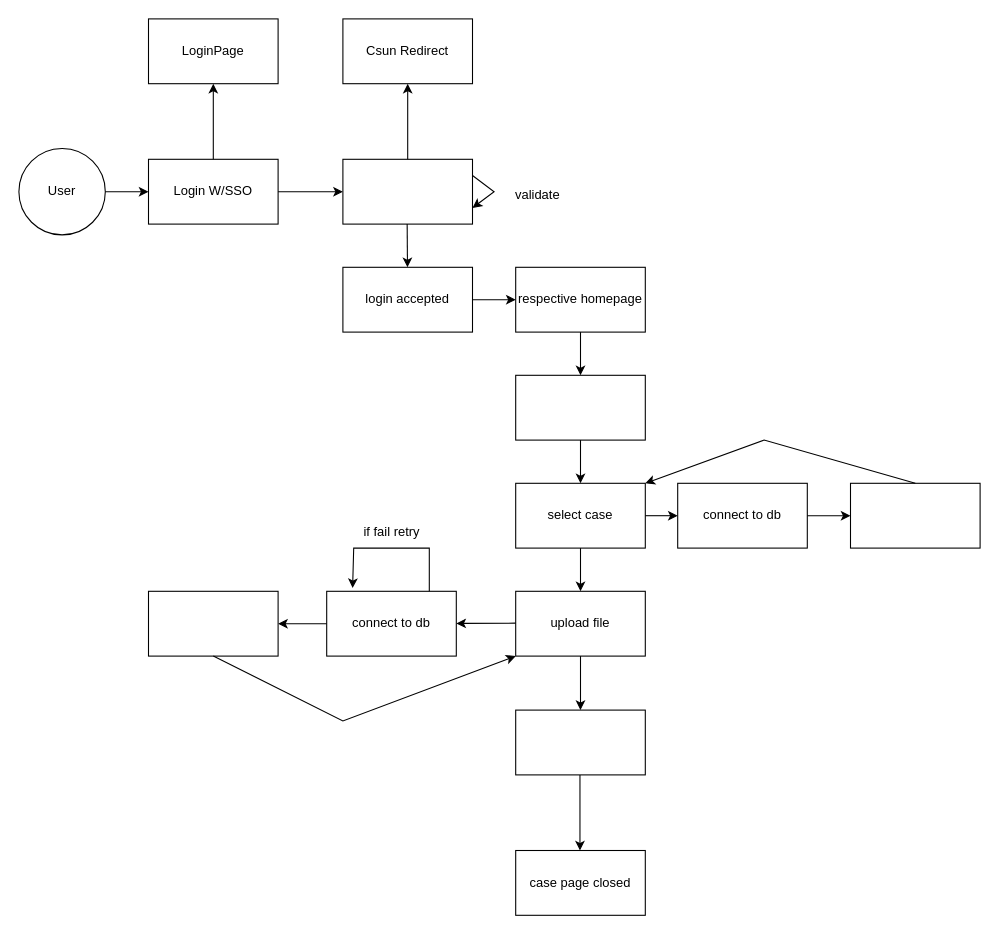
This 999x934 diagram has some shape labels left out. Each missing label, with the box of its shape:
click board: (515, 374, 645, 440)
file uploaded: (515, 709, 645, 775)
find case: (849, 482, 980, 548)
Redirect to csun: (342, 158, 473, 224)
save to db: (147, 590, 278, 656)
